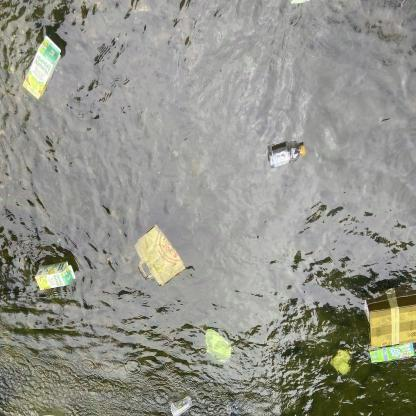Plastic: (200, 321, 240, 372), (264, 135, 310, 171), (167, 393, 198, 416)
Trash: (131, 219, 188, 290), (326, 344, 355, 382)
